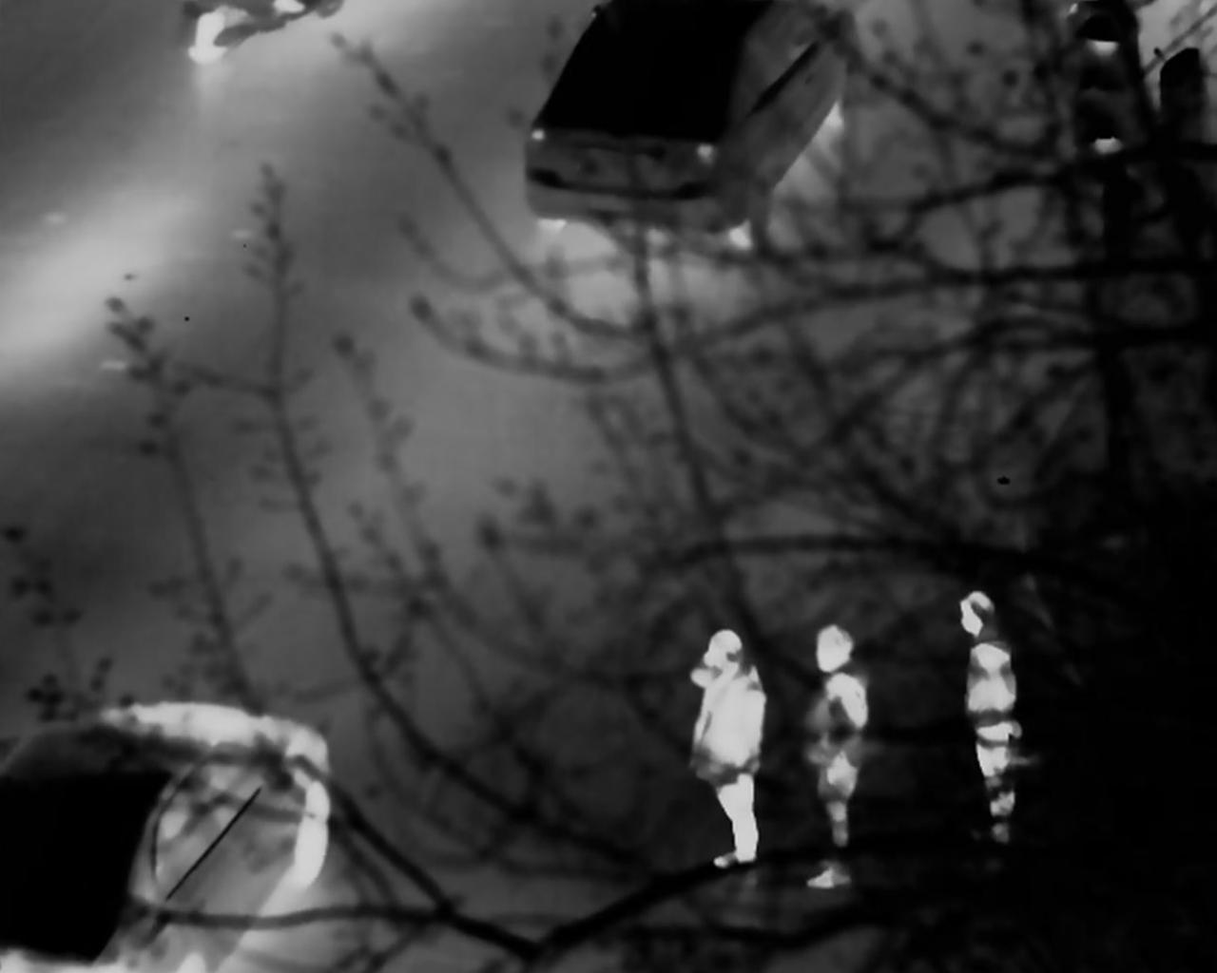person: (690, 631, 777, 868), (952, 588, 1028, 842), (807, 619, 873, 887)
